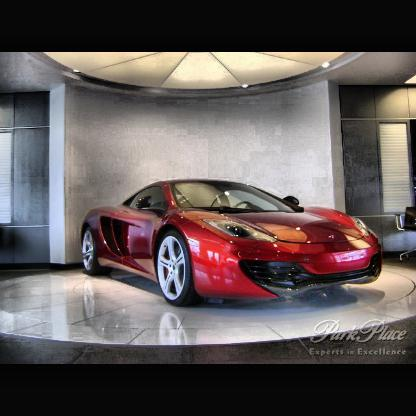McLaren MP4-12C Coupe 2012: (81, 178, 388, 308)
